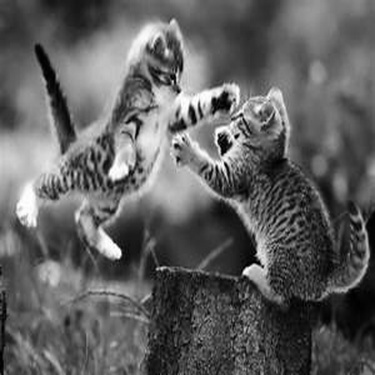cat: (171, 85, 373, 309), (9, 12, 188, 263)
